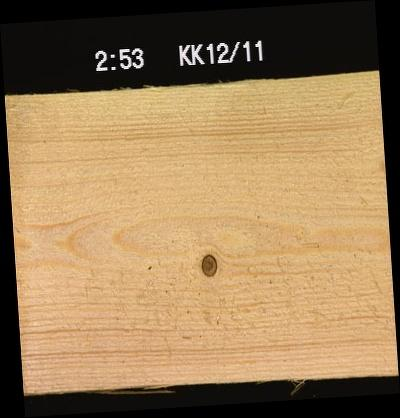dry_knot: (197, 250, 218, 278)
